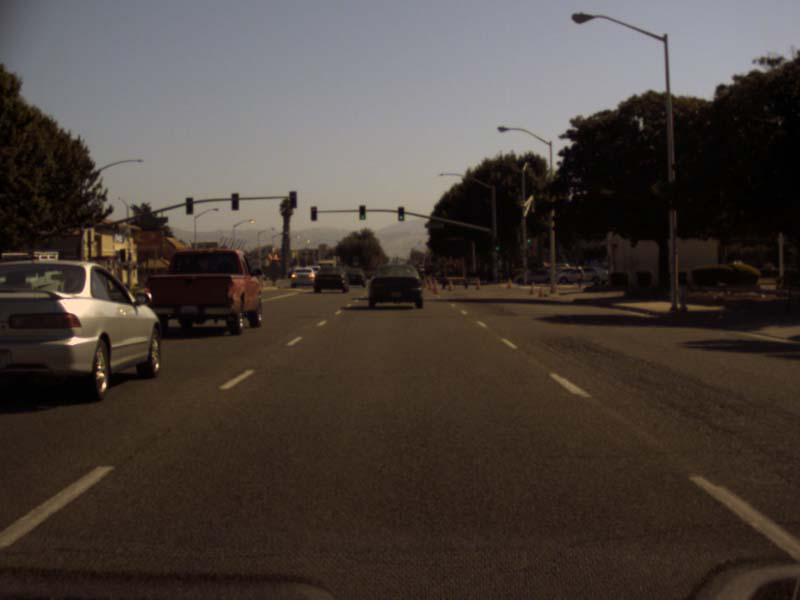Green: (397, 205, 405, 220), (359, 205, 366, 219), (493, 238, 500, 251), (526, 228, 532, 242)
Red: (310, 206, 317, 221)
